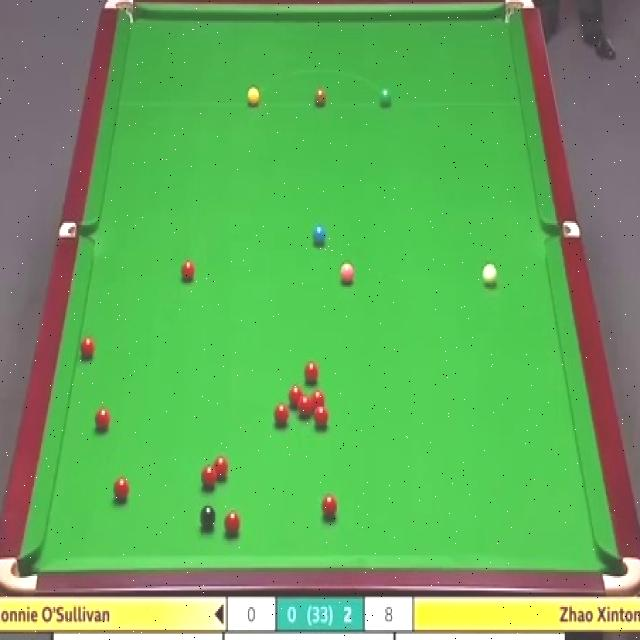black-ball: (200, 504, 218, 528)
blue-ball: (312, 223, 326, 249)
brown-ball: (313, 87, 327, 106)
green-ball: (379, 87, 392, 106)
pink-ball: (340, 264, 355, 287)
red-ball: (320, 491, 338, 522), (109, 475, 129, 502), (92, 404, 110, 432), (78, 336, 97, 362), (287, 382, 305, 408), (302, 361, 321, 384), (201, 464, 218, 489), (223, 510, 240, 534), (297, 396, 314, 418), (213, 457, 229, 480), (311, 391, 326, 415), (274, 401, 288, 424), (180, 262, 196, 281), (314, 405, 328, 426)
white-ball: (479, 262, 501, 287)
yellow-ball: (246, 87, 260, 106)
